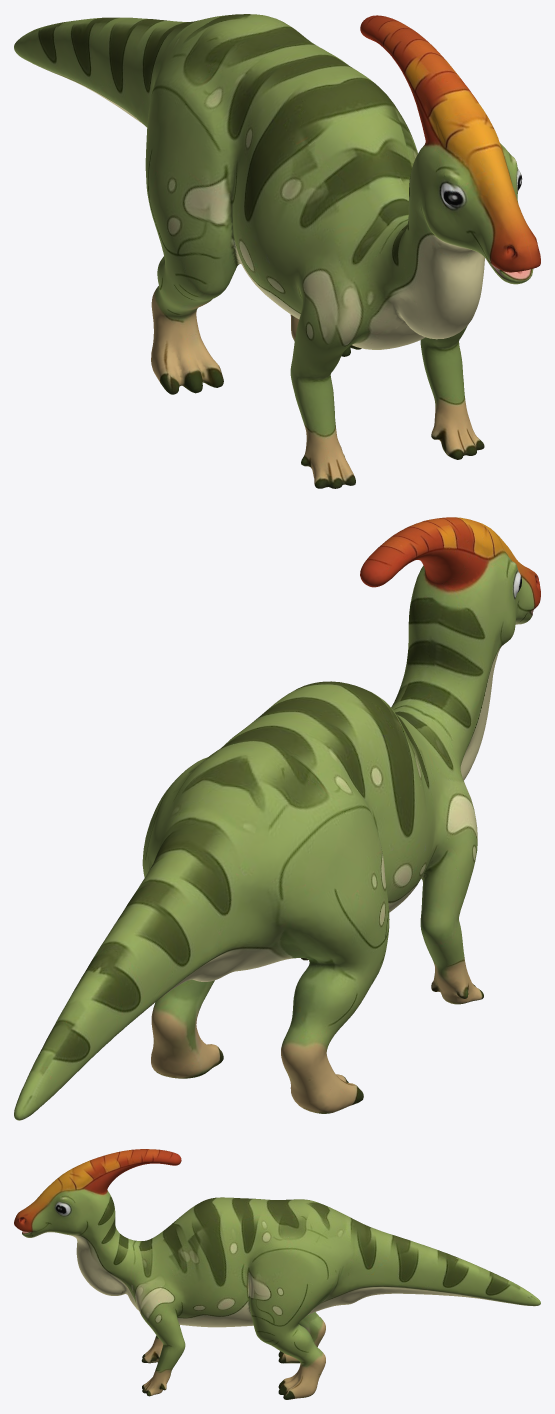
The model's file is P-parasaurolophus.glb.
3 views of the same model, one above another, from view 1: azimuth 30°, elevation 25°; view 2: azimuth 150°, elevation 25°; view 3: azimuth 270°, elevation 25° (orthographic). The views are drawn at different scales.
Size of the model in its own units: 0.4538 by 0.9013 by 1.9.
1 material, 1 textured.
